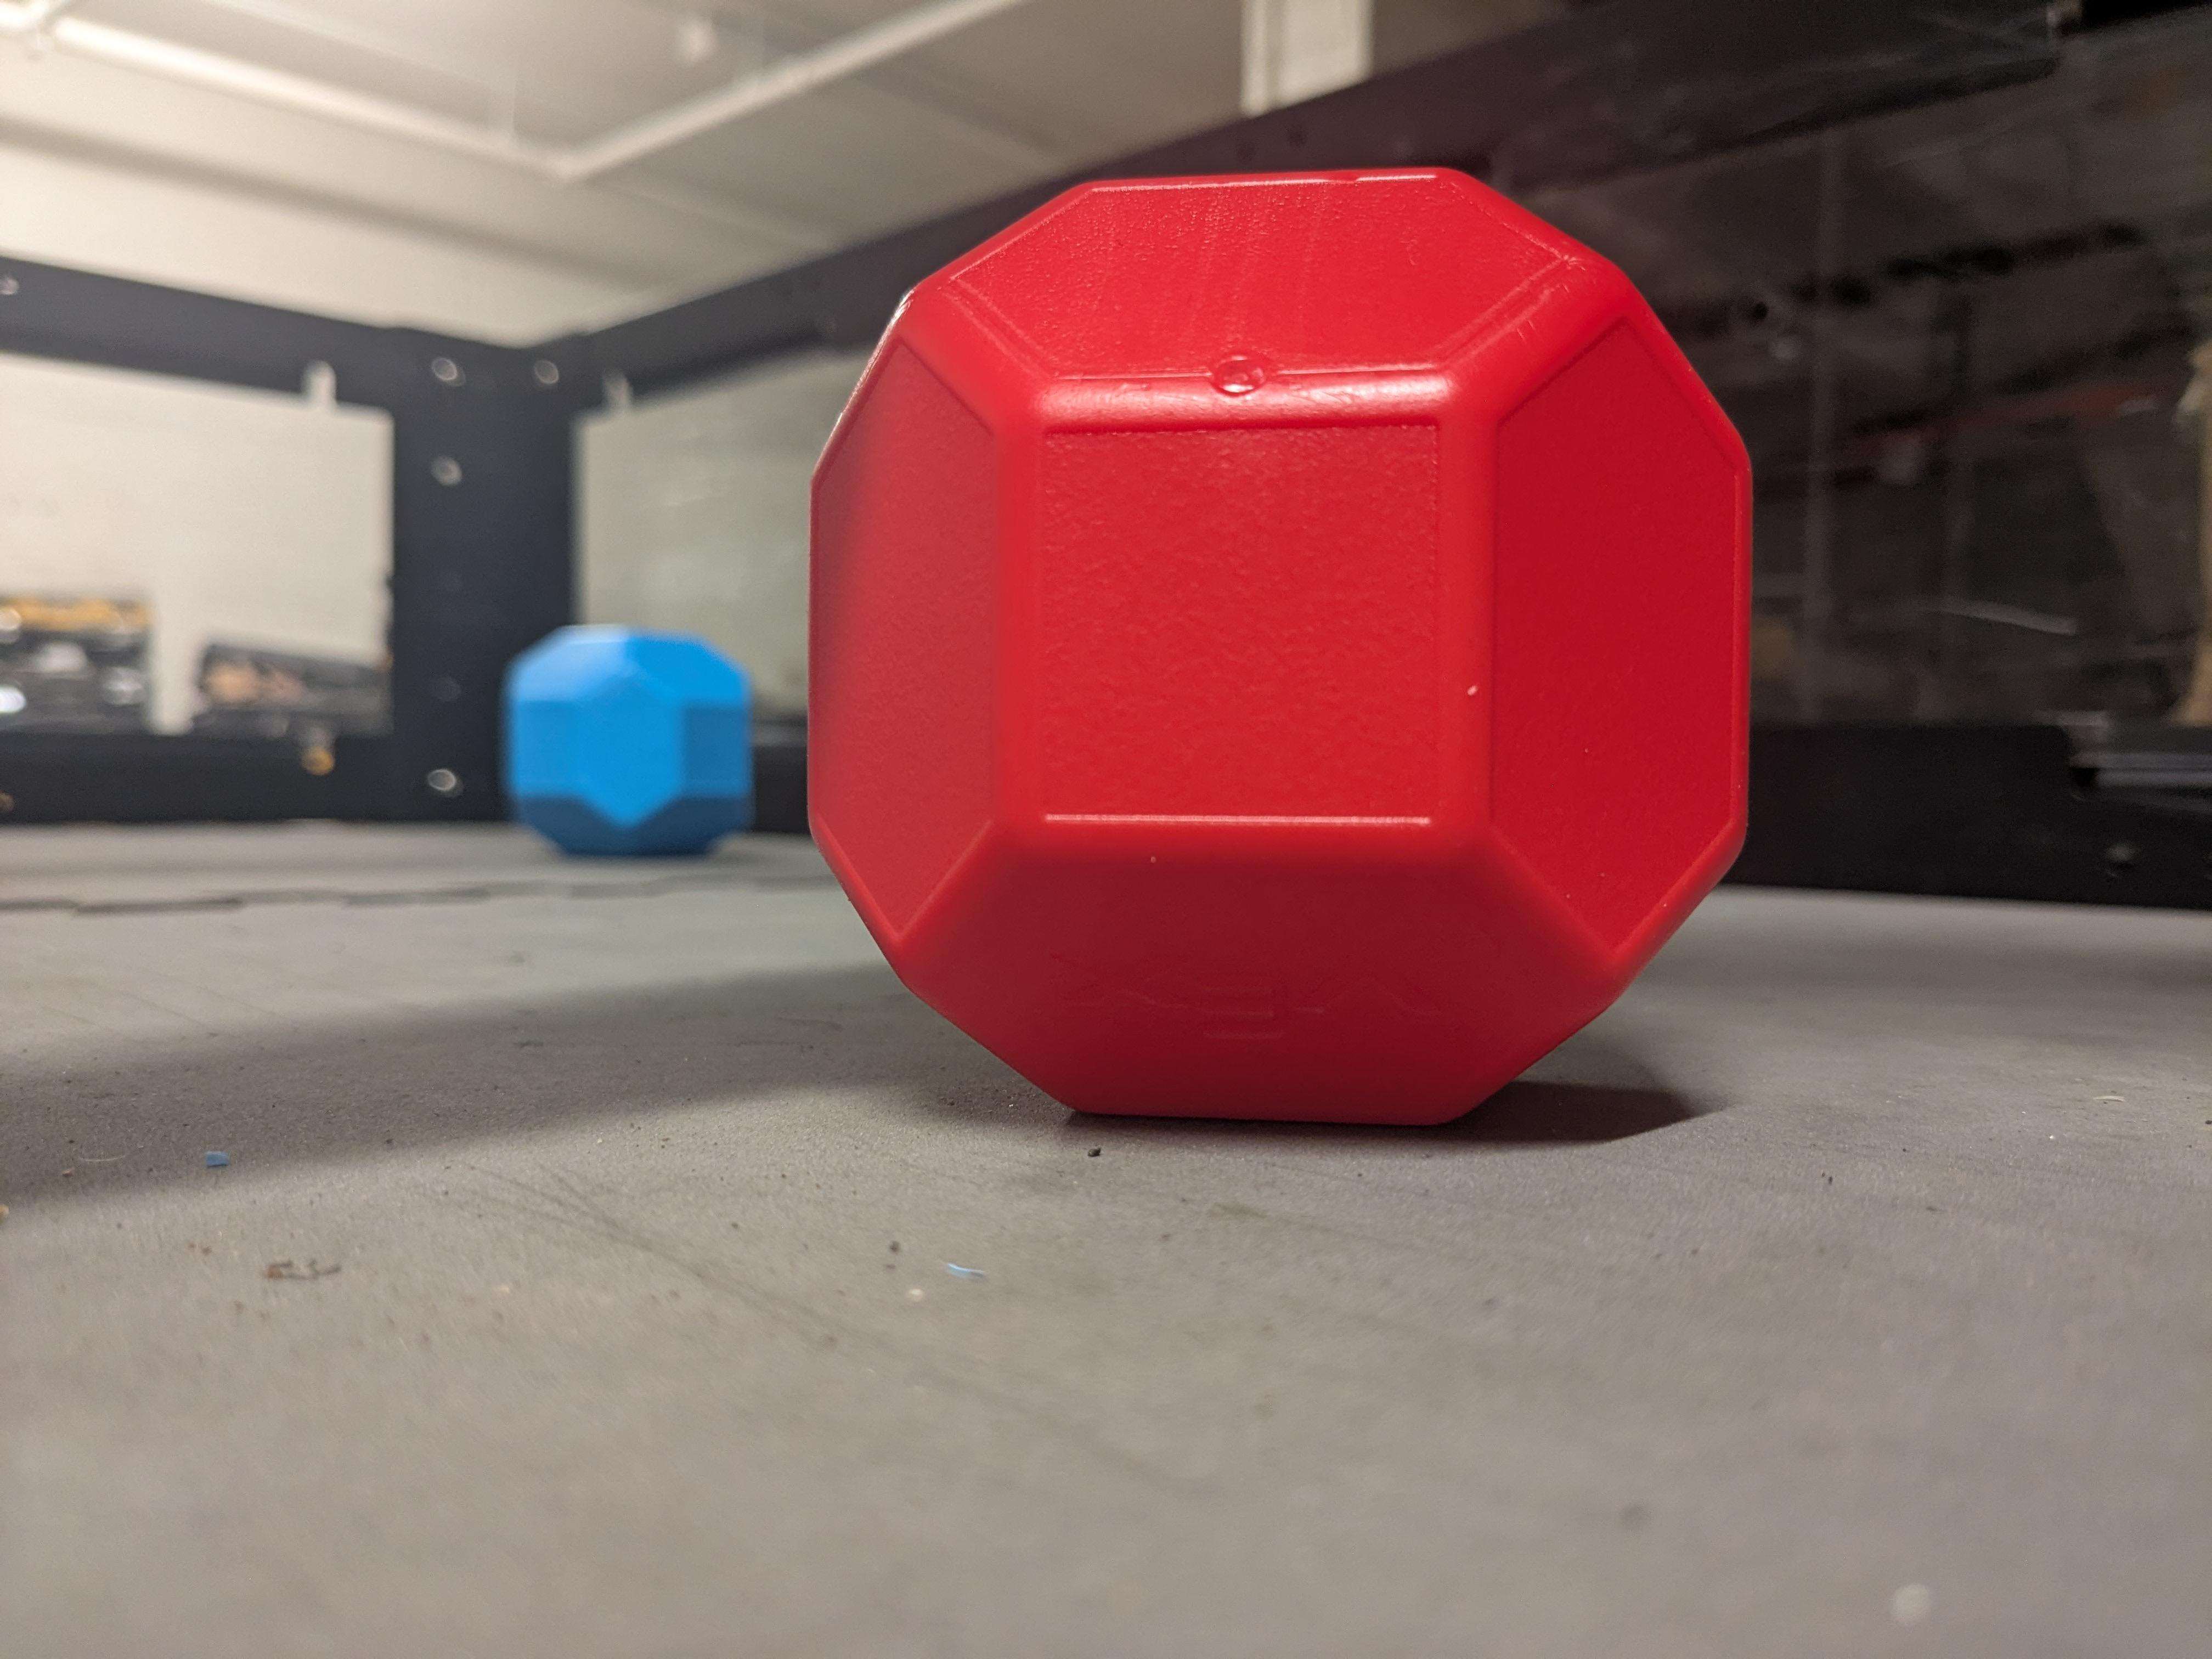Vex-Pieces-RED: (813, 171, 1749, 1122)
